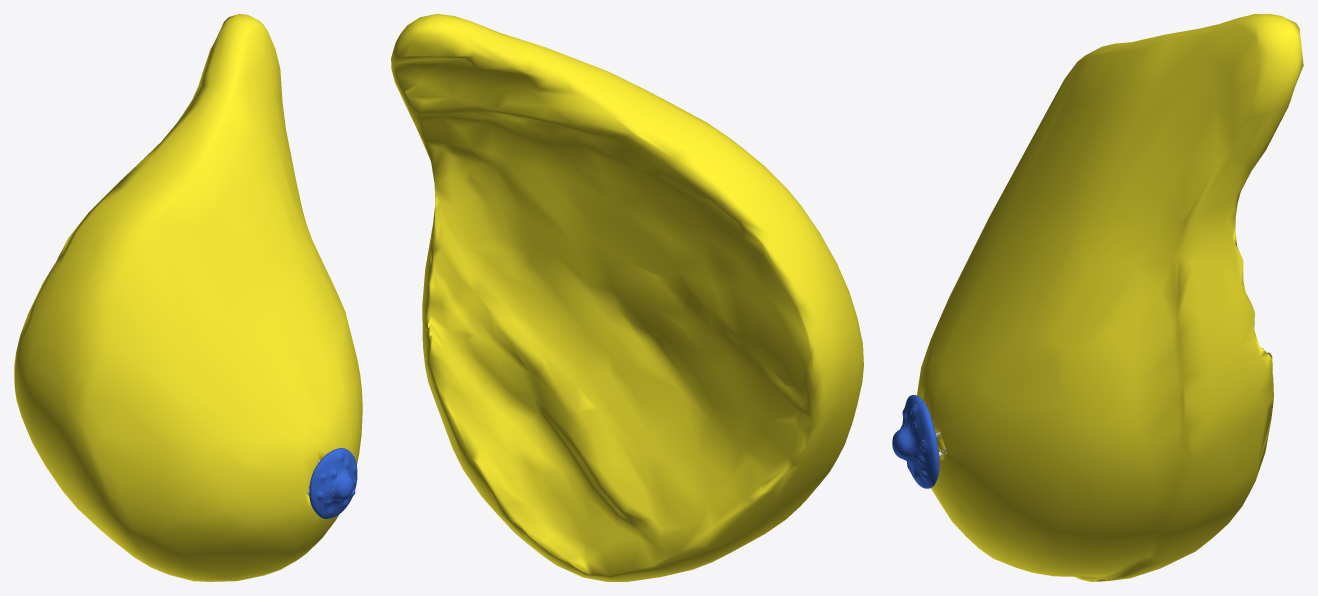
The model's file is 3d-vh-f-mammary-gland-l.glb.
3 renders of one model, left to right at view 1: azimuth 30°, elevation 25°; view 2: azimuth 150°, elevation 25°; view 3: azimuth 270°, elevation 25°, orthographic. The views are drawn at different scales.
Parts seen in each view (by area): view 1: VH_F_fat_L, VH_F_areola_L; view 2: VH_F_fat_L; view 3: VH_F_fat_L, VH_F_areola_L, VH_F_nipple_L.
Boxes of the visible parts, box(x1,y1,x2,y2) form: VH_F_fat_L: box(14, 14, 362, 581); VH_F_areola_L: box(309, 448, 357, 518); VH_F_fat_L: box(391, 14, 863, 581); VH_F_fat_L: box(917, 14, 1303, 581); VH_F_areola_L: box(900, 395, 939, 488); VH_F_nipple_L: box(892, 426, 912, 463).
Size of the model in its own units: 0.1281 by 0.1819 by 0.1119.
